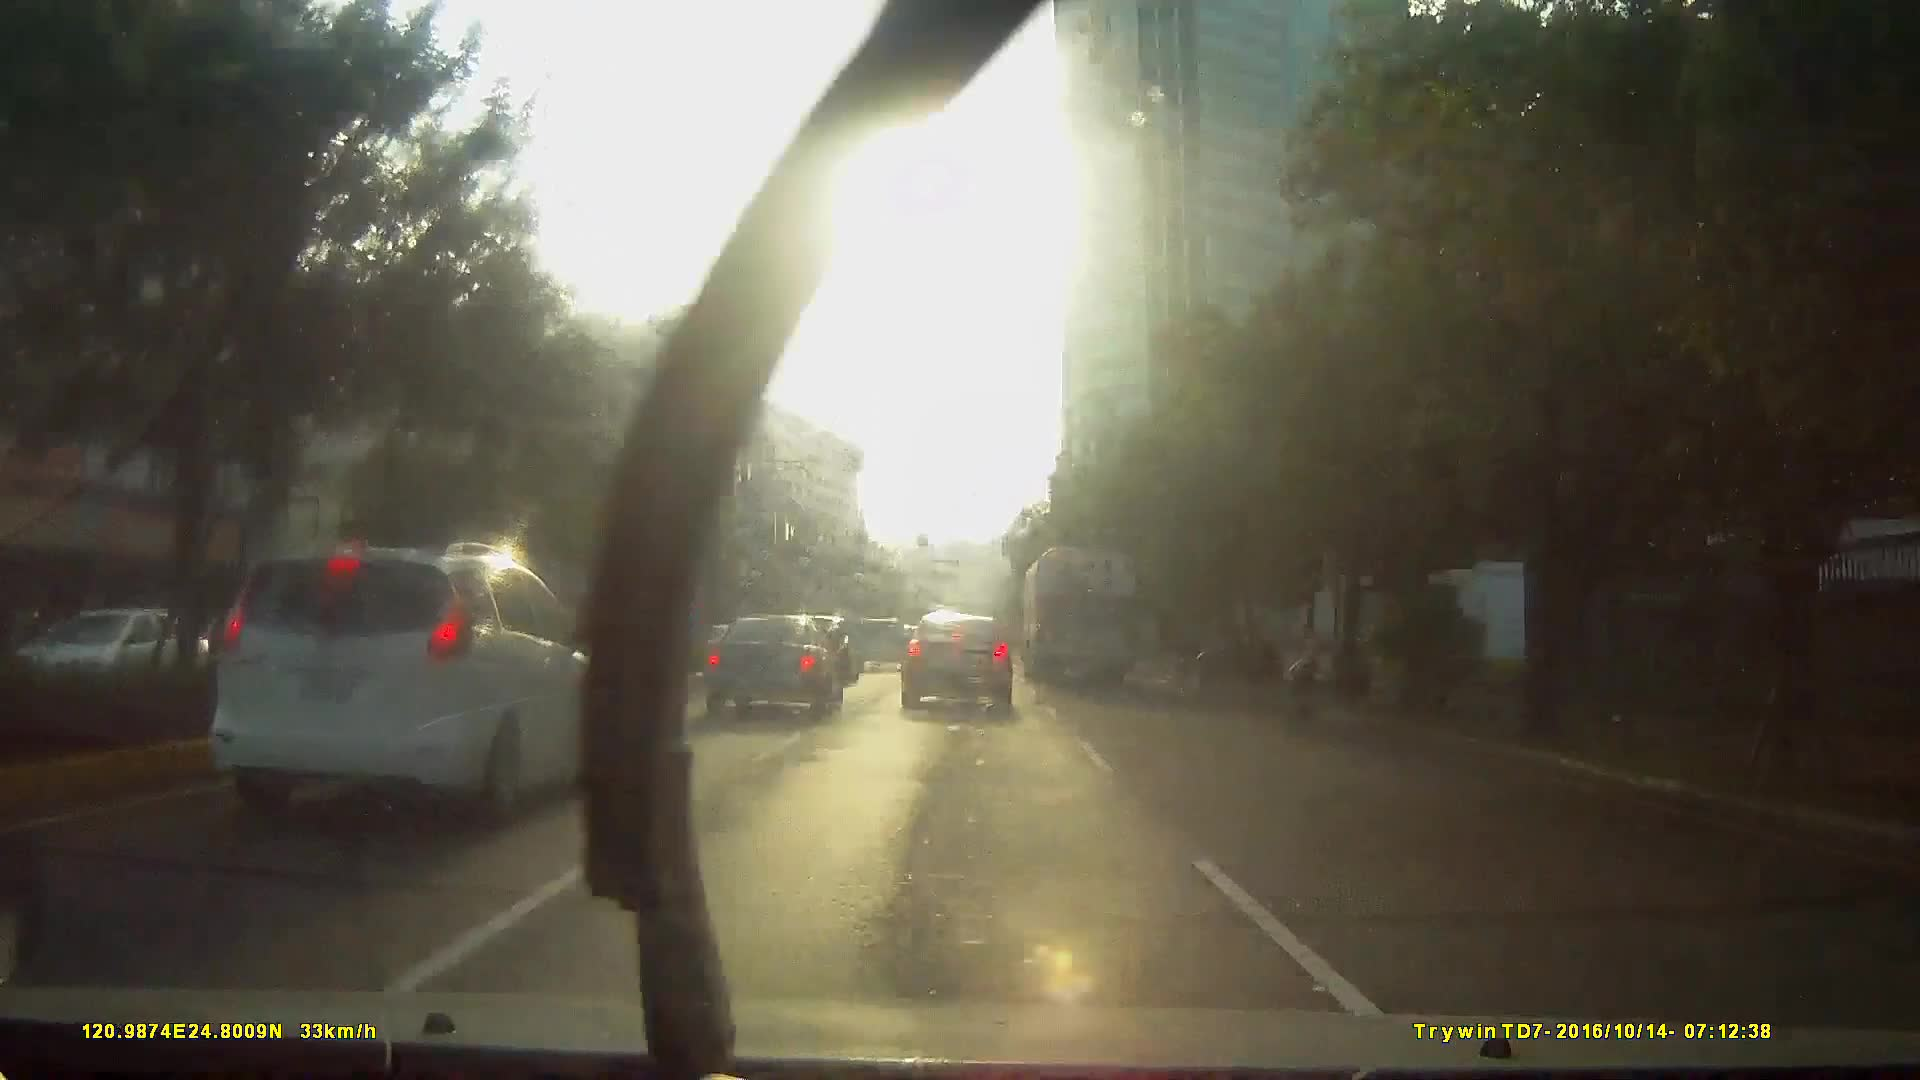vehicle: (251, 556, 684, 868), (185, 539, 626, 839), (1018, 545, 1139, 691), (696, 615, 844, 723), (897, 608, 1014, 717), (618, 591, 698, 663), (849, 615, 909, 676)
